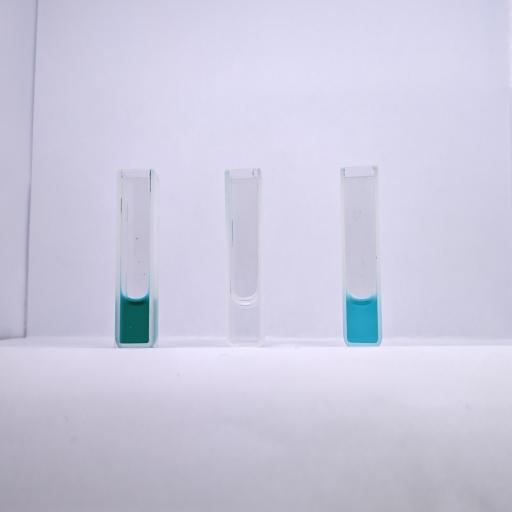cuvette: (338, 165, 384, 348), (114, 167, 156, 350), (223, 167, 264, 348)
liquid: (120, 296, 149, 344), (348, 296, 378, 342), (232, 296, 258, 341)
